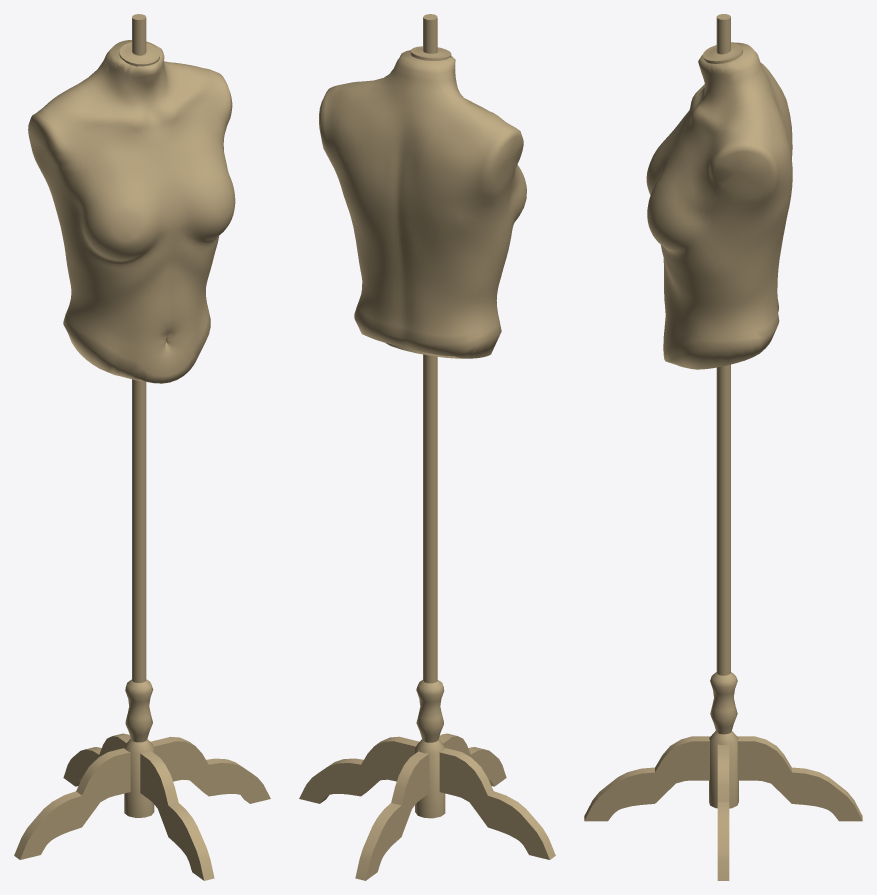
Rendered from Ordinary_mannequins_female.fbx.
3 renders of one model, left to right at view 1: azimuth 30°, elevation 25°; view 2: azimuth 150°, elevation 25°; view 3: azimuth 270°, elevation 25°, orthographic.
Parts seen in each view (by area): view 1: Ordinary_mannequins_female_LOD0; view 2: Ordinary_mannequins_female_LOD0; view 3: Ordinary_mannequins_female_LOD0.
Part boxes in pixels (left/top/right/bottom): Ordinary_mannequins_female_LOD0: left=14, top=14, right=270, bottom=880; Ordinary_mannequins_female_LOD0: left=299, top=14, right=555, bottom=880; Ordinary_mannequins_female_LOD0: left=584, top=14, right=862, bottom=880.
Bounding box in the file's own units: 104 × 322 × 101.
